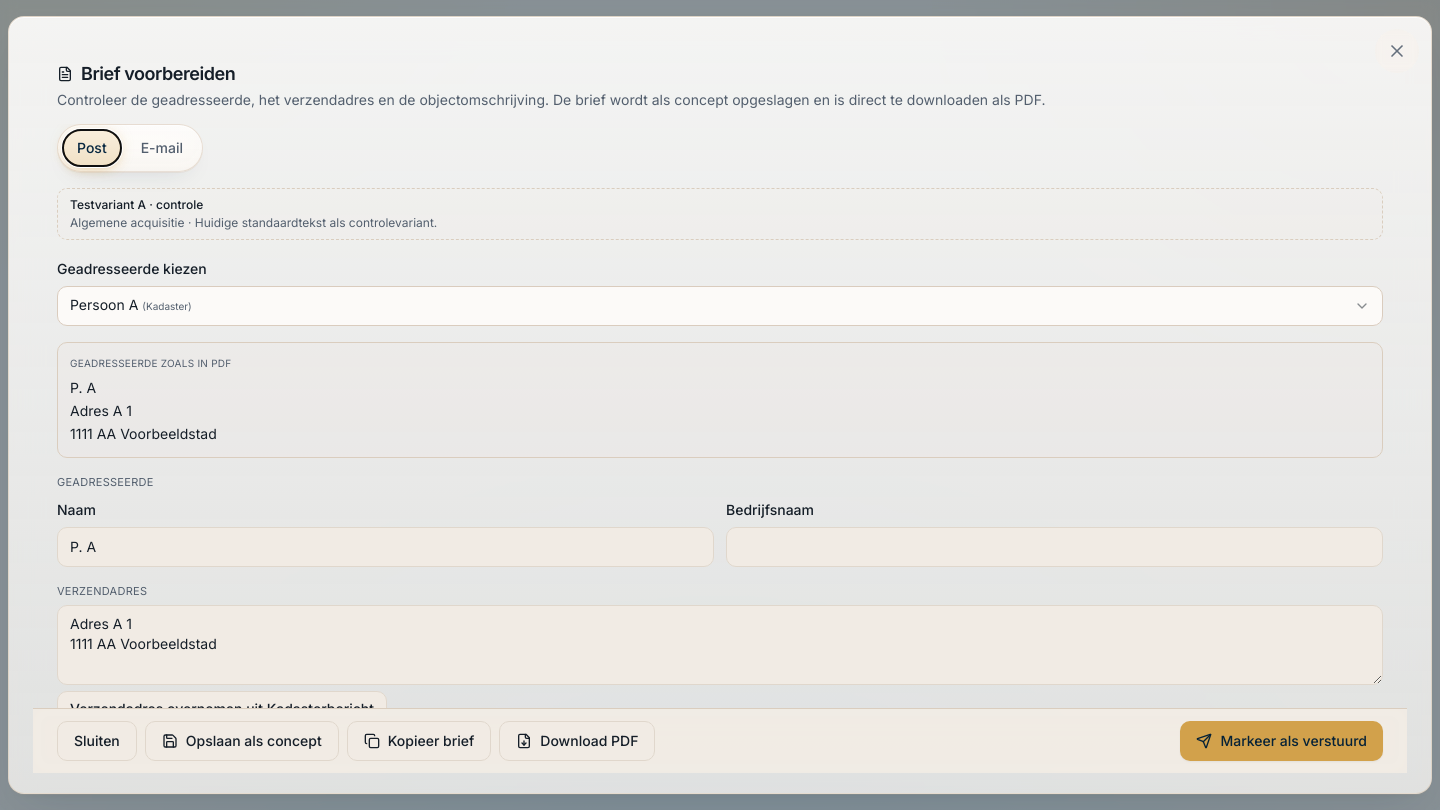
Test case: BriefVoorbereidenDialog — V42 PDF-adresvoorstel per kandidaat › houdt een PDF-adresvoorstel niet vast bij wissel naar andere kandidaat
Earlier steps of the test are not shown.
Click the dropdown labelled "Persoon A (Kadaster)". click: (104,305)
box: top-left (57, 286), bottom-right (1383, 326)
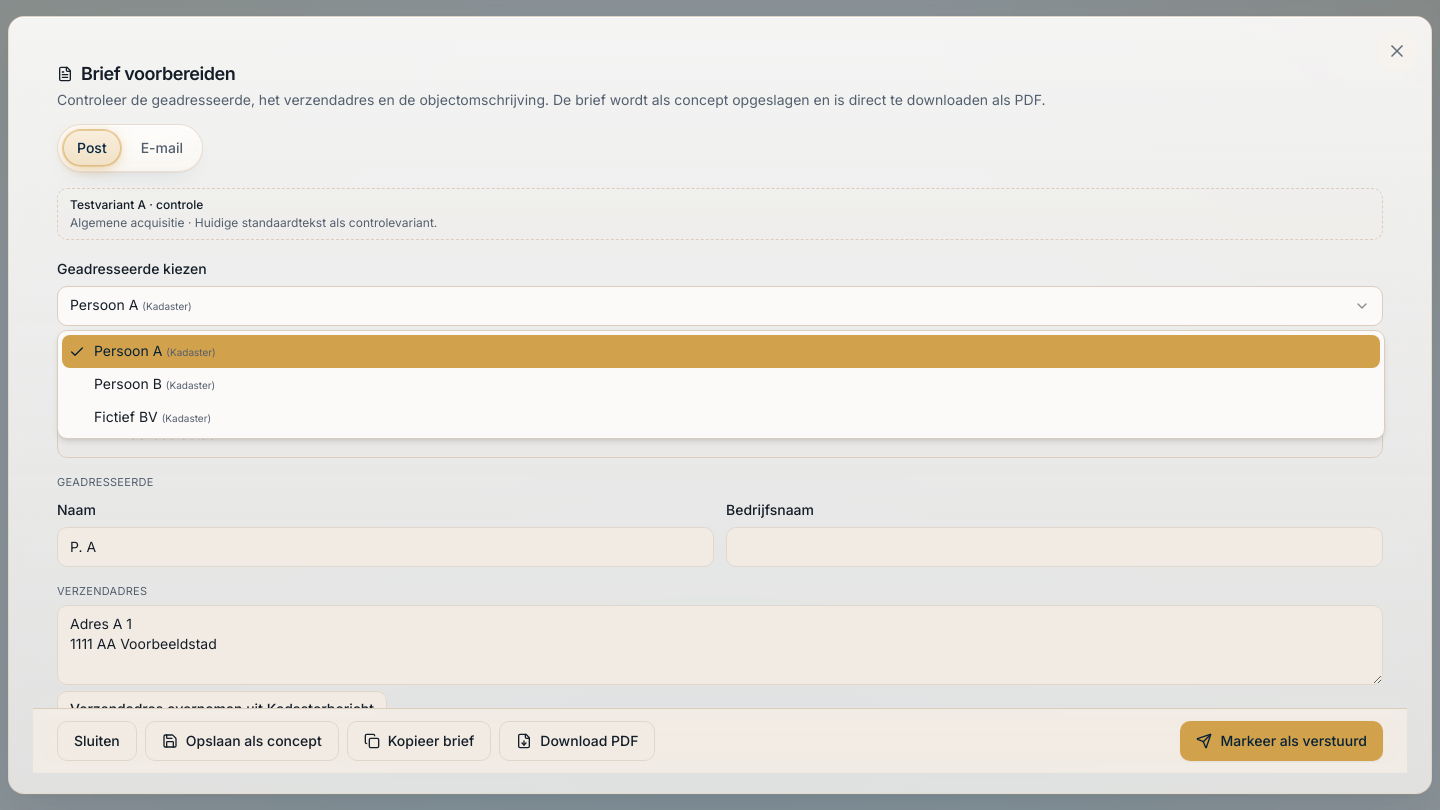
Click the option "Persoon B (Kadaster)". click: (155,384)
box: top-left (94, 375), bottom-right (215, 392)
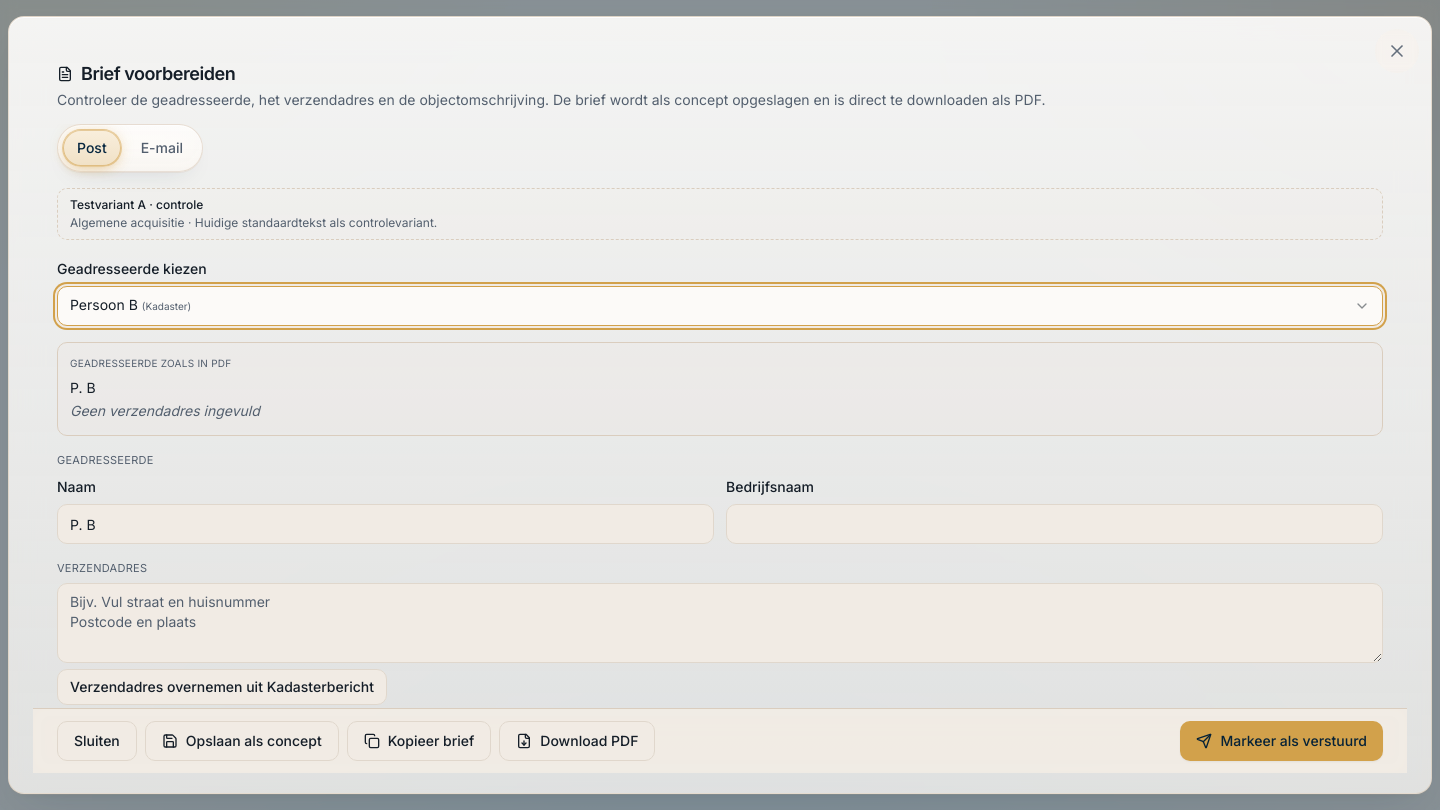
Expected: the text box named "Verzendadres" is empty, top-left (57, 582), bottom-right (1383, 662)
